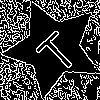T: (28, 23, 82, 77)
